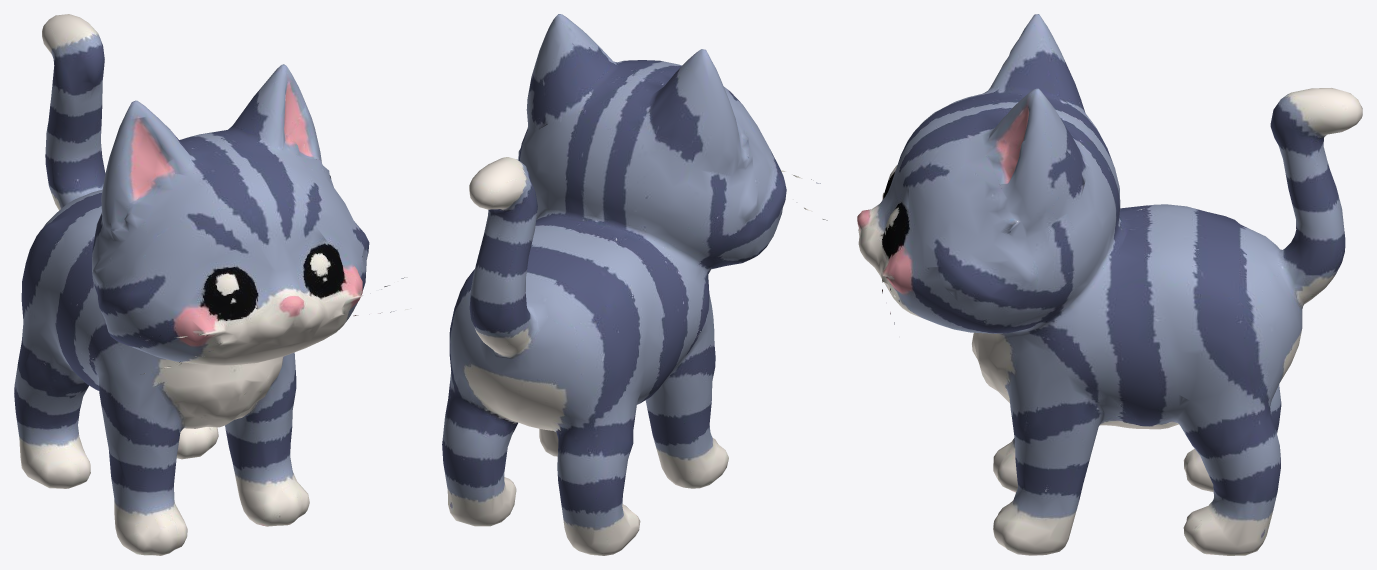
The model's file is cat.glb.
3 views of the same model, side by side, from view 1: azimuth 30°, elevation 25°; view 2: azimuth 150°, elevation 25°; view 3: azimuth 270°, elevation 25° (orthographic). The views are drawn at different scales.
Visible parts, largest first — view 1: Mesh_0.001; view 2: Mesh_0.001; view 3: Mesh_0.001.
Part boxes in pixels (x1,y1,x2,y2): Mesh_0.001: [14, 14, 410, 555]; Mesh_0.001: [442, 14, 827, 555]; Mesh_0.001: [857, 14, 1362, 555].
Size of the model in its own units: 1.21 by 1.88 by 1.86.
1 material, 1 textured.
